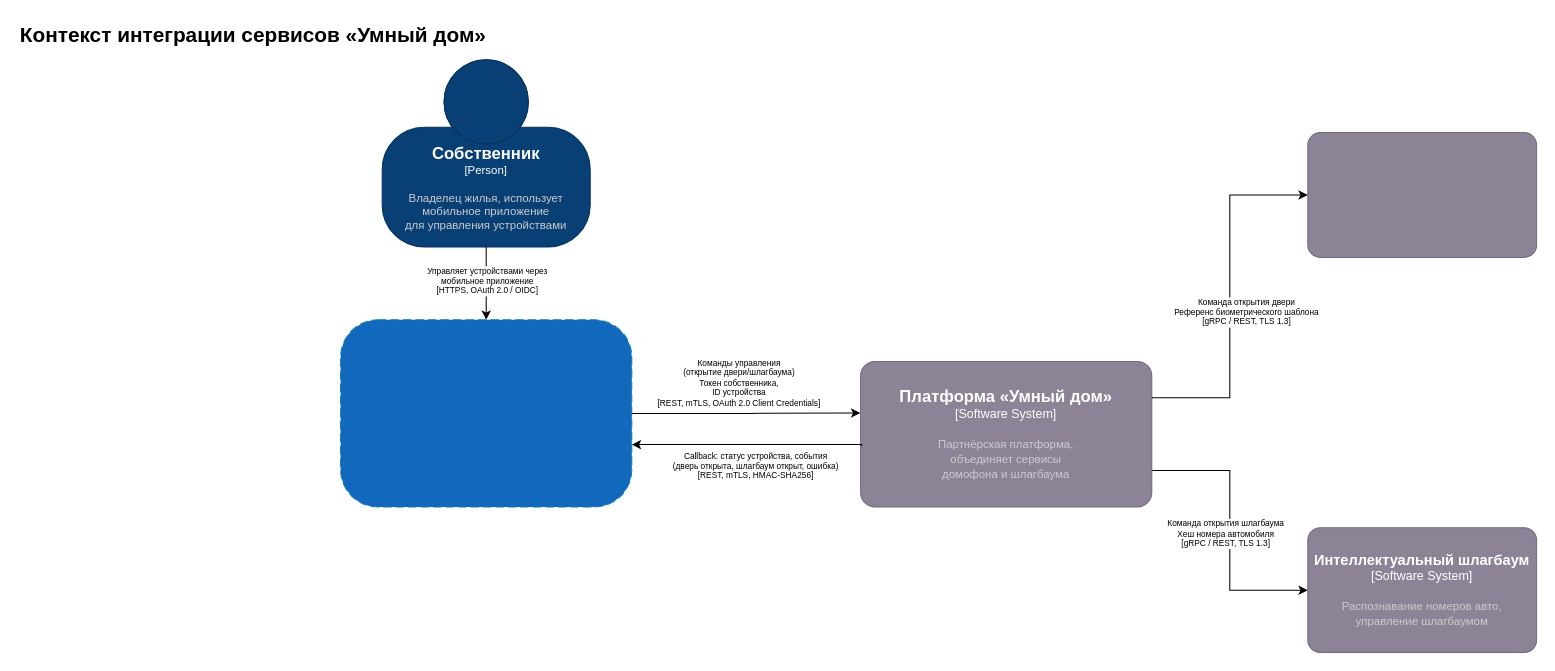
Some shapes in this 1555 by 671 pixel diagram are drawn without their labels. Each missing label, with the centre of its shape:
"PropDevelopment [Software System]" goes at point (486, 413).
"Интеллектуальный домофон [Software System] Распознавание лиц, управление дверью" goes at point (1422, 194).
